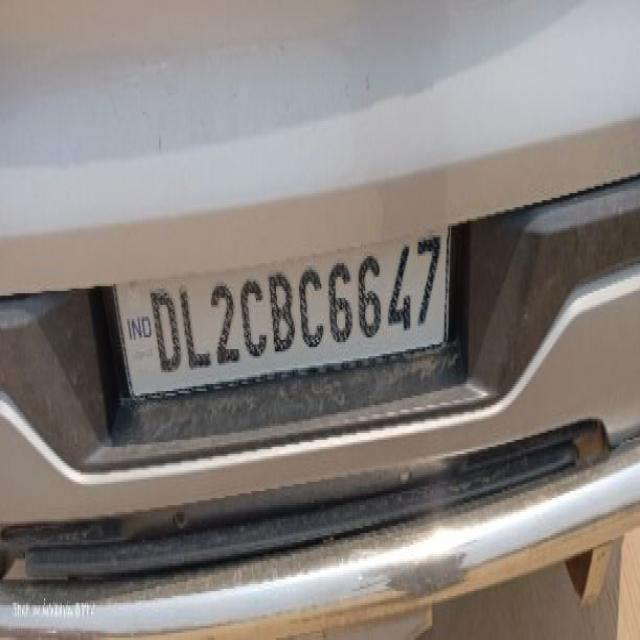license_plate: (0, 4, 639, 630), (101, 221, 456, 400)
